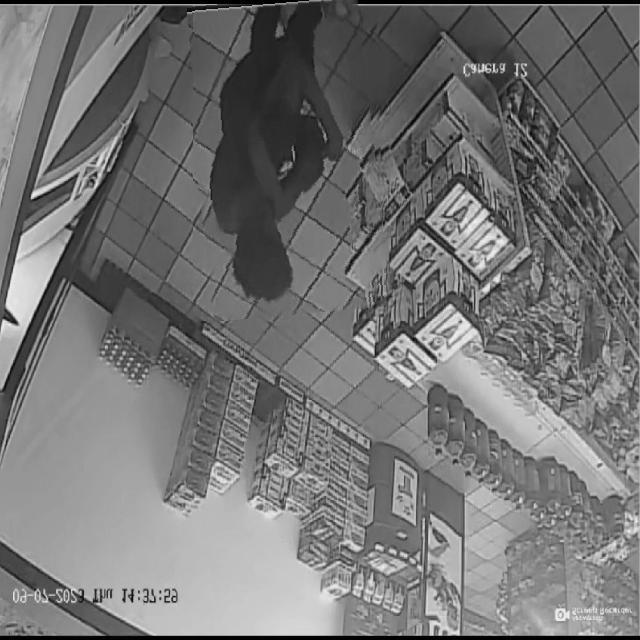Normal: (193, 0, 386, 319)
